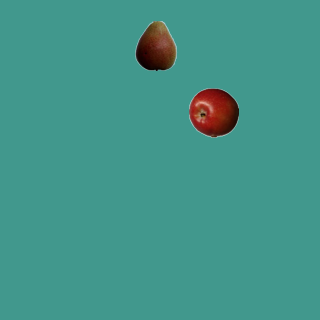Apple Braeburn: (188, 87, 238, 137)
Pear Forelle: (130, 20, 180, 70)
